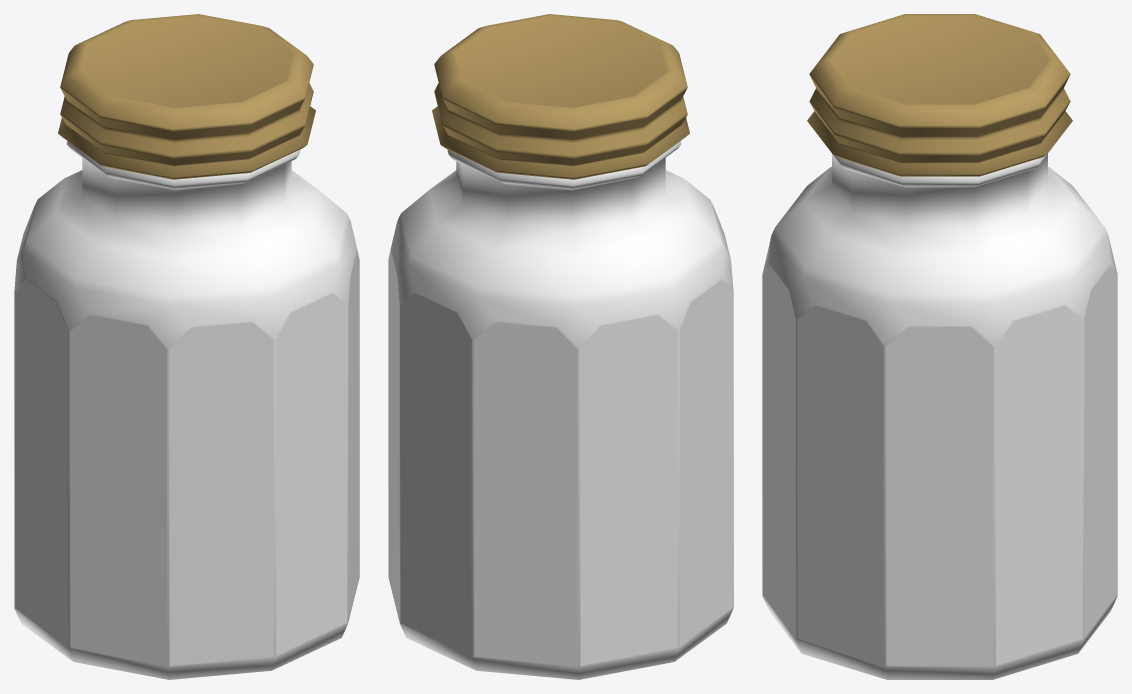
Rendered from BottleFood01.glb.
3 renders of one model, left to right at view 1: azimuth 30°, elevation 25°; view 2: azimuth 150°, elevation 25°; view 3: azimuth 270°, elevation 25°, orthographic.
Visible parts, largest first — view 1: Body; view 2: Body; view 3: Body.
Boxes of the visible parts, bbox=[...] form: Body: bbox=[14, 14, 359, 679]; Body: bbox=[388, 14, 733, 679]; Body: bbox=[762, 14, 1117, 679].
Size of the model in its own units: 0.2592 by 0.4669 by 0.2726.
Materials: 3 (1 with a texture image).
